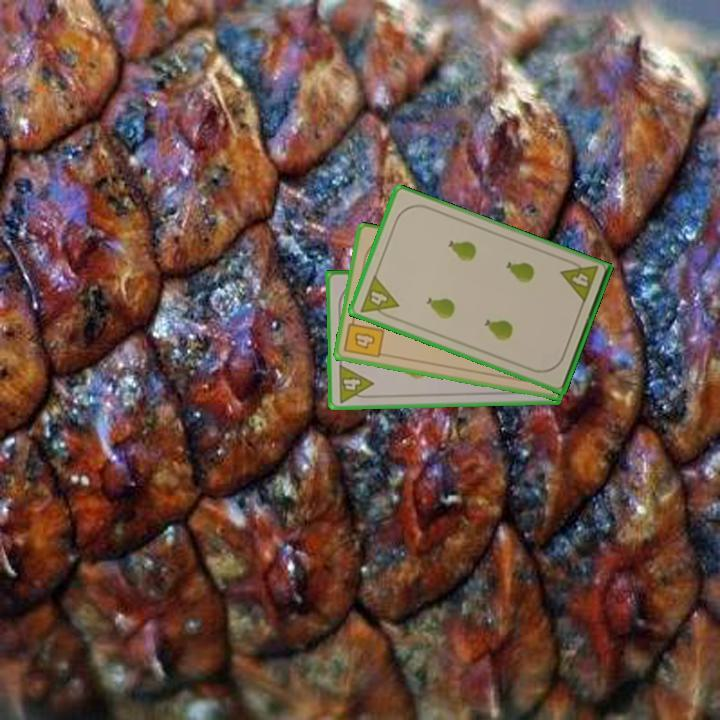4b: (341, 313, 387, 361)
4p: (357, 272, 401, 323), (557, 256, 601, 306), (334, 361, 376, 405)
